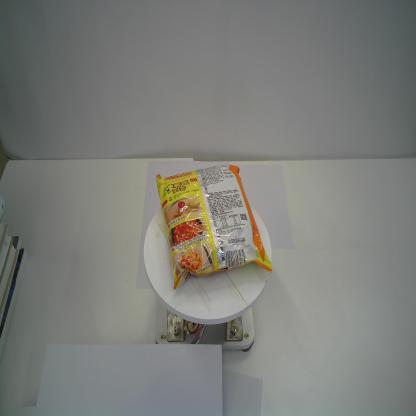Instant Noodles: (155, 164, 272, 291)
